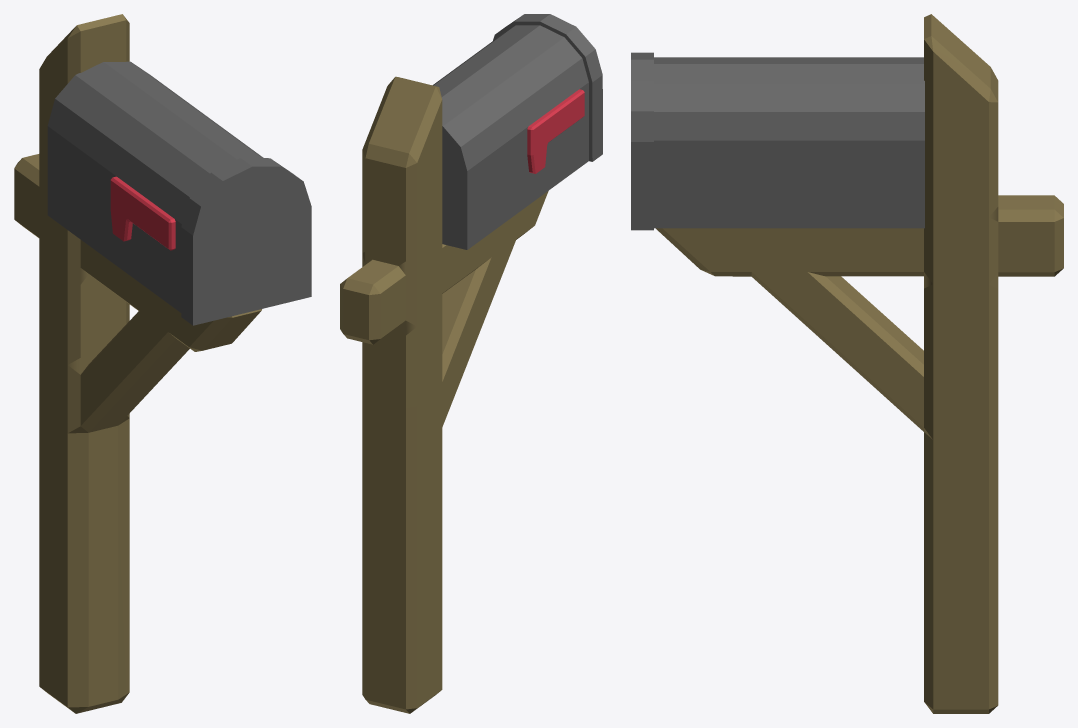
File: house_2_mailbox.FBX
3 renders of one model, left to right at view 1: azimuth 30°, elevation 25°; view 2: azimuth 150°, elevation 25°; view 3: azimuth 270°, elevation 25°, orthographic. The views are drawn at different scales.
Parts seen in each view (by area): view 1: mailbox_2; view 2: mailbox_2; view 3: mailbox_2.
Boxes of the visible parts, <box> form: mailbox_2: <box>14,14,311,713</box>; mailbox_2: <box>340,14,602,713</box>; mailbox_2: <box>631,14,1063,713</box>.
Bounding box in the file's own units: 29.09 × 159 × 91.82.
